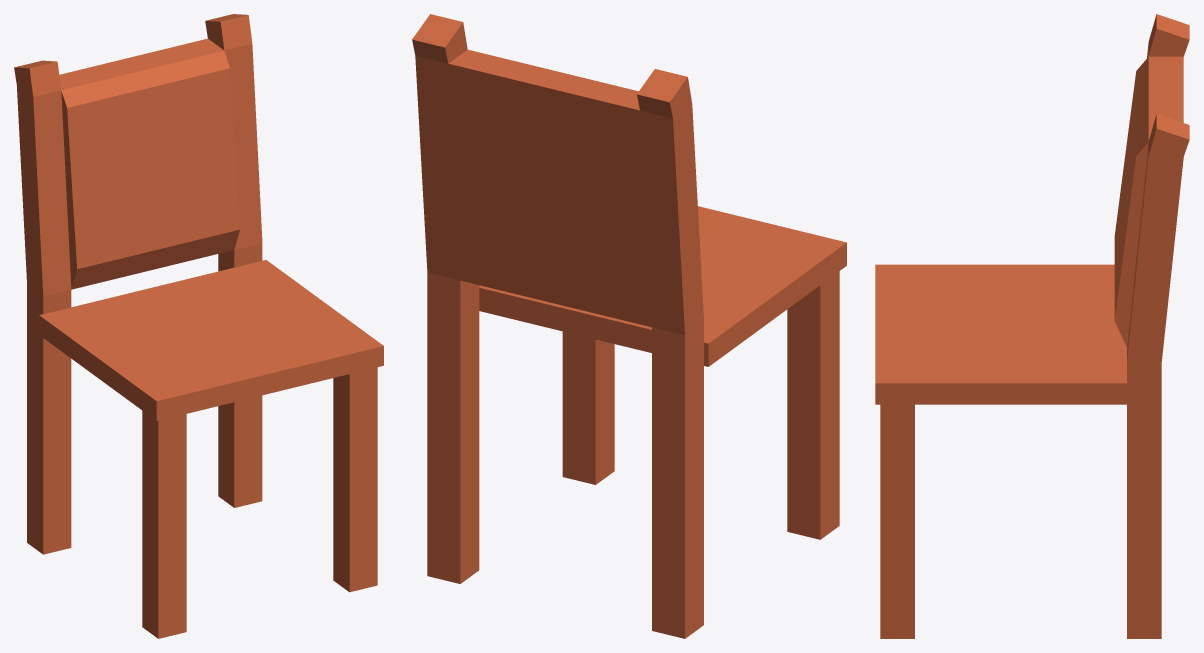
File: Prop_Chair_05.fbx
The picture shows the model from 3 angles, left to right: view 1: azimuth 30°, elevation 25°; view 2: azimuth 150°, elevation 25°; view 3: azimuth 270°, elevation 25°; orthographic projection. The views are drawn at different scales.
Visible parts, largest first — view 1: Prop_Chair_05; view 2: Prop_Chair_05; view 3: Prop_Chair_05.
Part boxes in pixels (box(x1,y1,x2,y2)): Prop_Chair_05: box(14, 14, 383, 638); Prop_Chair_05: box(412, 14, 846, 638); Prop_Chair_05: box(875, 14, 1189, 638).
Size of the model in its own units: 50 by 100 by 55.94.
